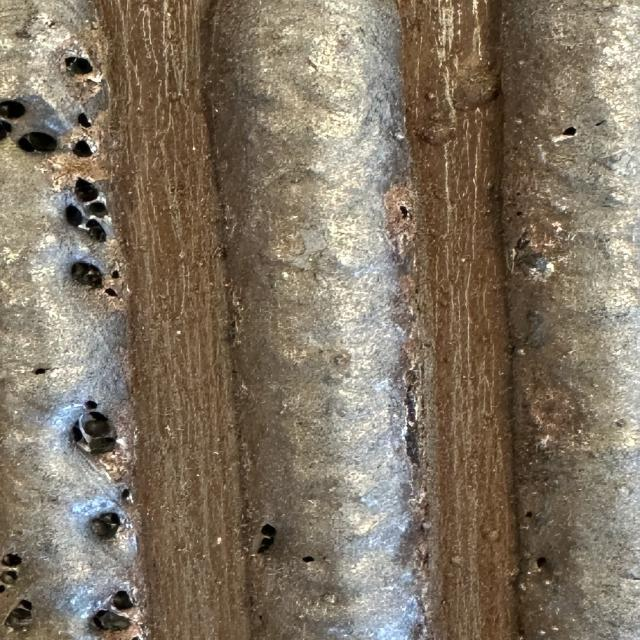Excess Reinforcement: (405, 345, 425, 469)
Porosity: (72, 410, 117, 454), (0, 100, 25, 139), (90, 512, 122, 539), (5, 600, 33, 630), (72, 262, 103, 289), (18, 131, 57, 152), (93, 610, 130, 631), (257, 524, 277, 553), (75, 179, 98, 202), (65, 56, 93, 73), (0, 100, 25, 119), (87, 219, 107, 242), (112, 590, 133, 610), (65, 205, 83, 226), (73, 140, 93, 158), (87, 201, 108, 218), (2, 554, 22, 568), (0, 570, 18, 584), (0, 120, 12, 141), (77, 112, 92, 128), (120, 488, 133, 504), (562, 126, 577, 136), (85, 400, 98, 410), (537, 558, 547, 569), (33, 368, 47, 375), (105, 288, 117, 296), (302, 555, 315, 562), (112, 270, 120, 279), (0, 585, 7, 593)
Spatters: (453, 50, 500, 111), (413, 122, 457, 144), (427, 109, 455, 124), (392, 129, 405, 144), (518, 629, 533, 640), (487, 530, 500, 542), (323, 594, 337, 604), (293, 614, 307, 623), (452, 555, 463, 565), (401, 206, 408, 218), (425, 92, 435, 100), (511, 346, 520, 354), (615, 420, 625, 427), (525, 511, 533, 518), (515, 119, 522, 124), (553, 626, 560, 631), (175, 330, 182, 335), (517, 211, 523, 216)
